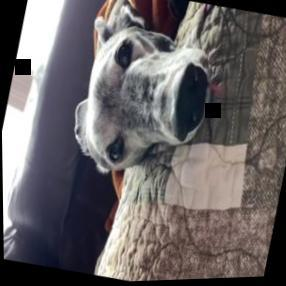nasal_discharge: (187, 62, 229, 102)
